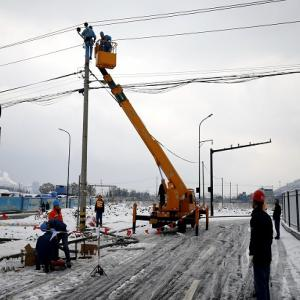blue: (41, 222, 51, 233), (54, 200, 62, 211), (274, 197, 281, 205)
red: (251, 190, 267, 211)
yellow: (99, 194, 103, 200)
